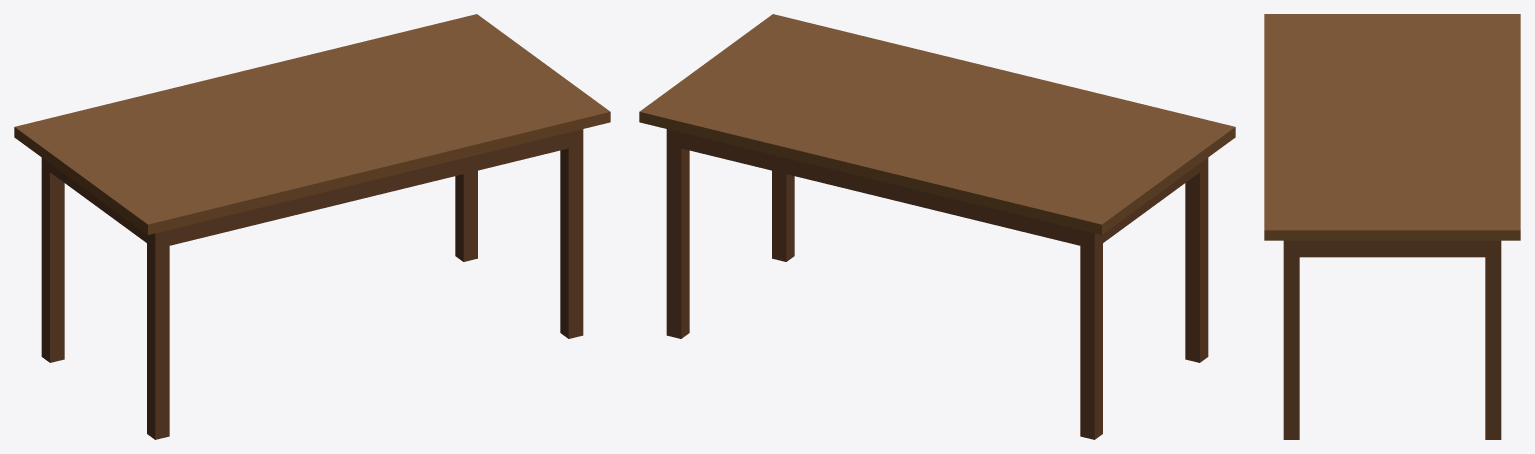
File: table.glb
The picture shows the model from 3 angles, left to right: view 1: azimuth 30°, elevation 25°; view 2: azimuth 150°, elevation 25°; view 3: azimuth 270°, elevation 25°; orthographic projection. The views are drawn at different scales.
Parts seen in each view (by area): view 1: table; view 2: table; view 3: table.
Part boxes in pixels (box(x1,y1,x2,y2)): table: box(14, 14, 610, 439); table: box(639, 14, 1235, 439); table: box(1264, 14, 1520, 439).
Bounding box in the file's own units: 1.6 × 0.7501 × 0.8001.
